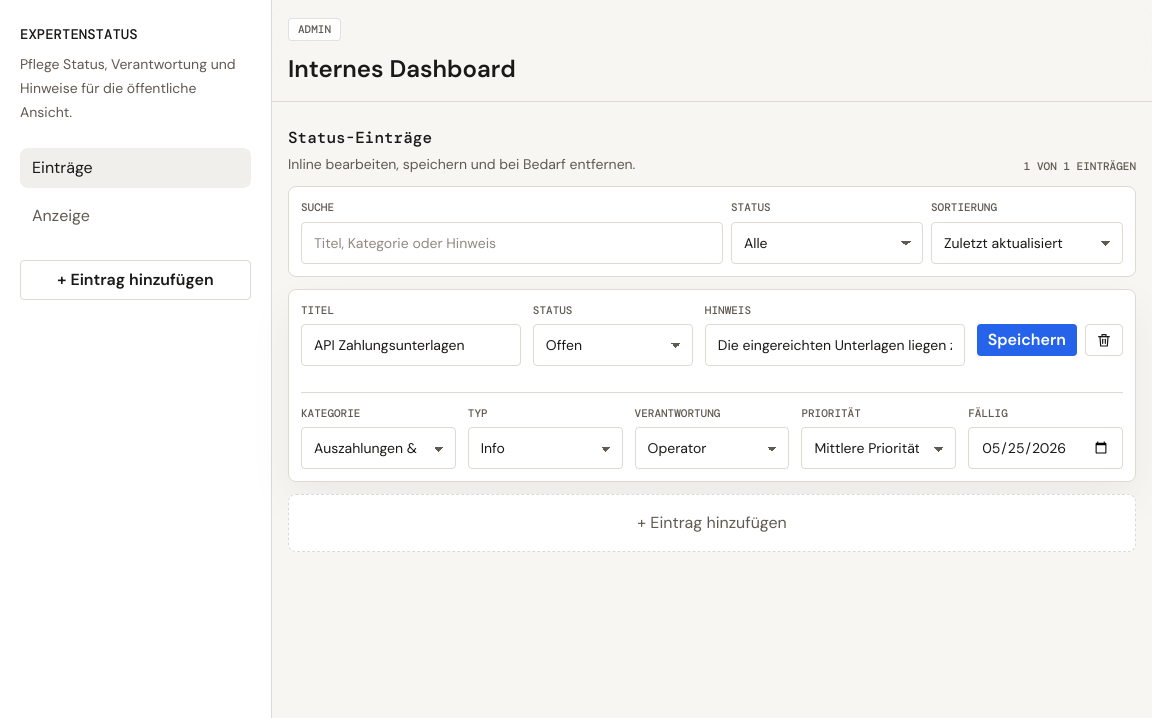
Test: switches between admin entries and display settings panels
The width and height of the screenshot is (1152, 718).
Expected: the heading "Internes Dashboard" is shown, x1=288 y1=53 x2=516 y2=85
Expected: the heading "Status-Einträge" is shown, x1=288 y1=127 x2=432 y2=148
Click the button "Anzeige".
click(136, 216)  # box x1=20 y1=196 x2=251 y2=236
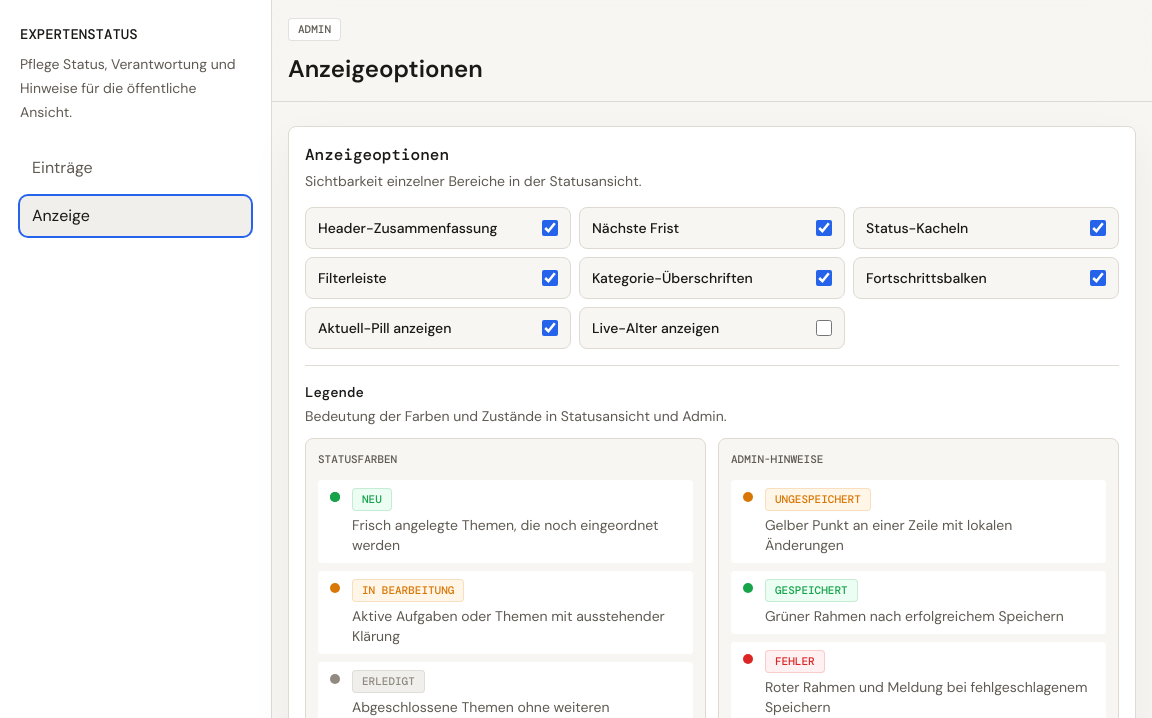
Result: the 2nd heading "Anzeigeoptionen" is shown at x1=305 y1=143 x2=449 y2=167
Result: the heading "Status-Einträge" is gone
Click the button "Einträge".
click(136, 168)  # box x1=20 y1=148 x2=251 y2=188
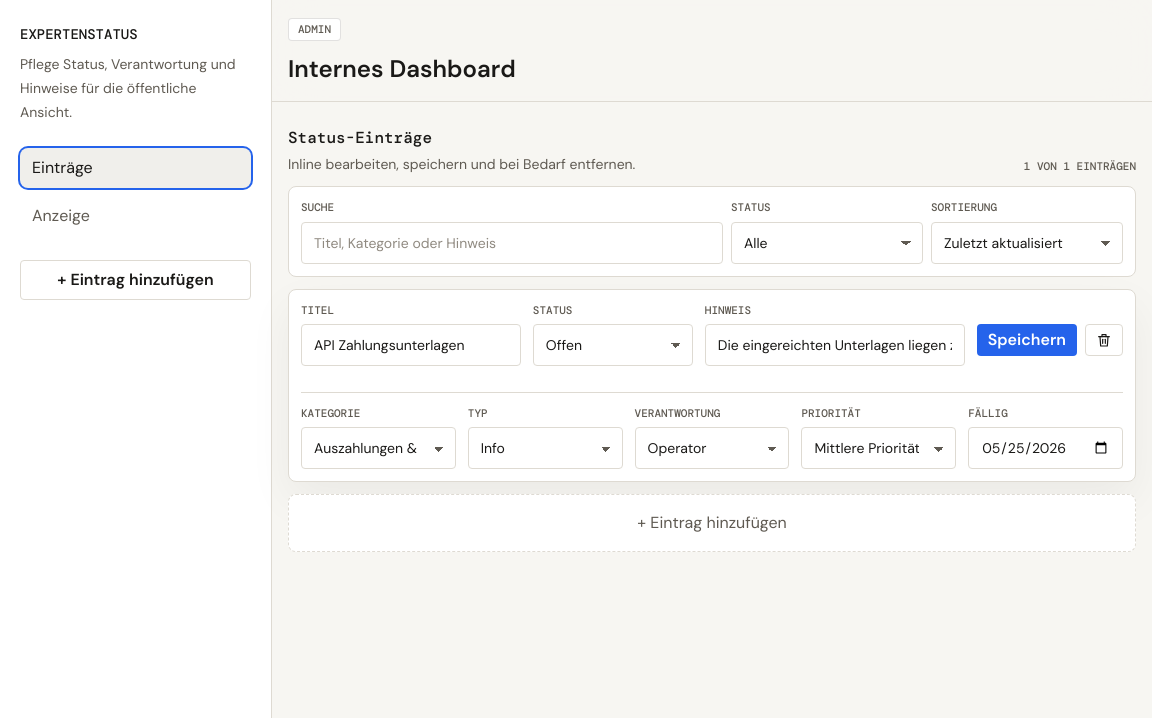
Result: the heading "Status-Einträge" is shown at x1=288 y1=127 x2=432 y2=148
